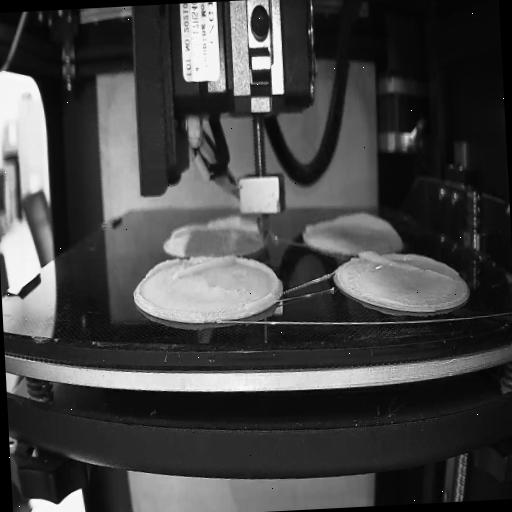over_extrusion: (358, 244, 452, 284), (302, 206, 396, 238), (237, 254, 280, 311), (168, 214, 258, 236), (176, 251, 234, 277), (143, 258, 174, 278)
